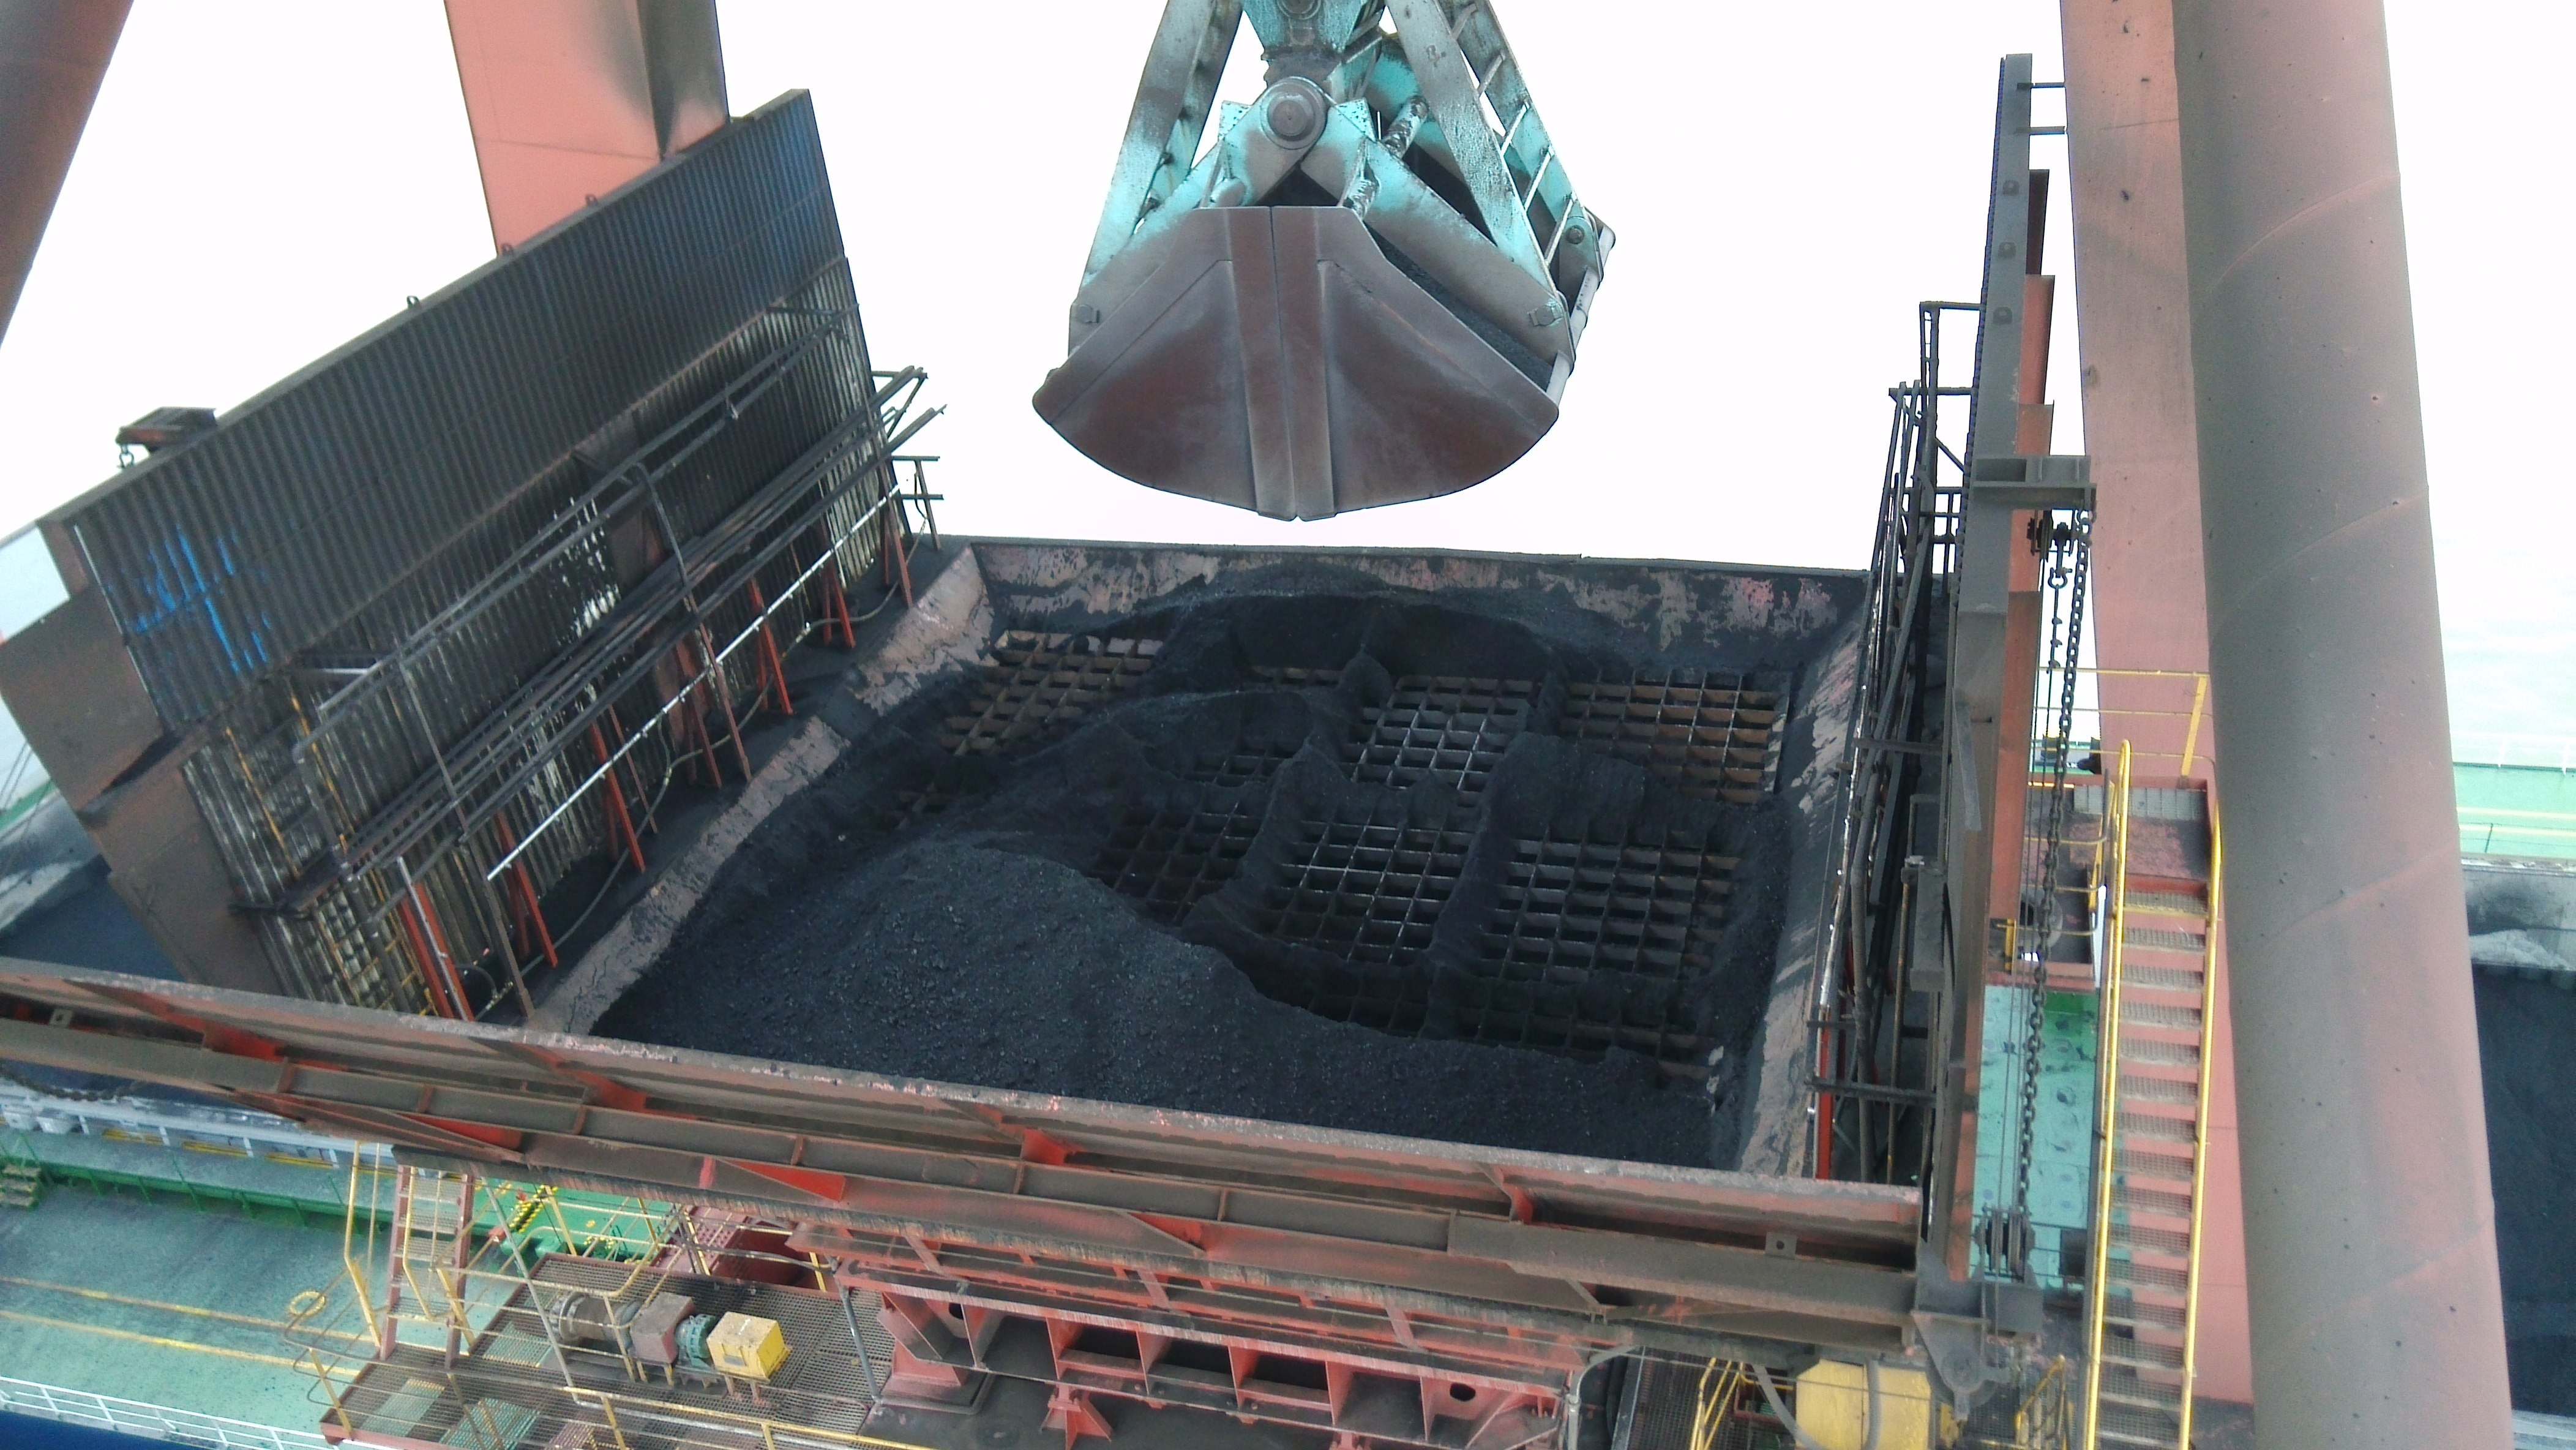grab: (1000, 5, 1629, 531)
